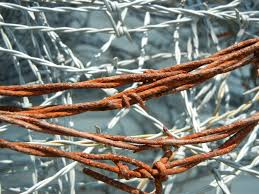rust: (87, 153, 183, 179), (119, 75, 191, 95), (18, 102, 106, 117), (219, 41, 253, 72), (3, 82, 81, 95), (119, 136, 229, 141)
